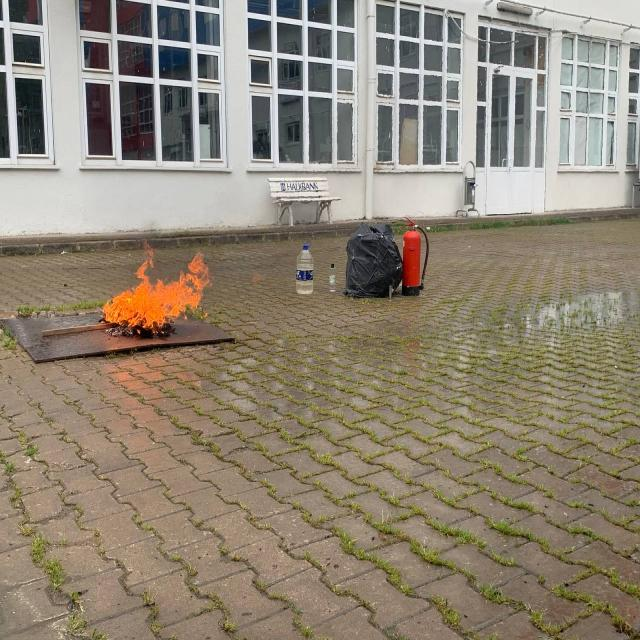fire: (99, 250, 213, 331)
